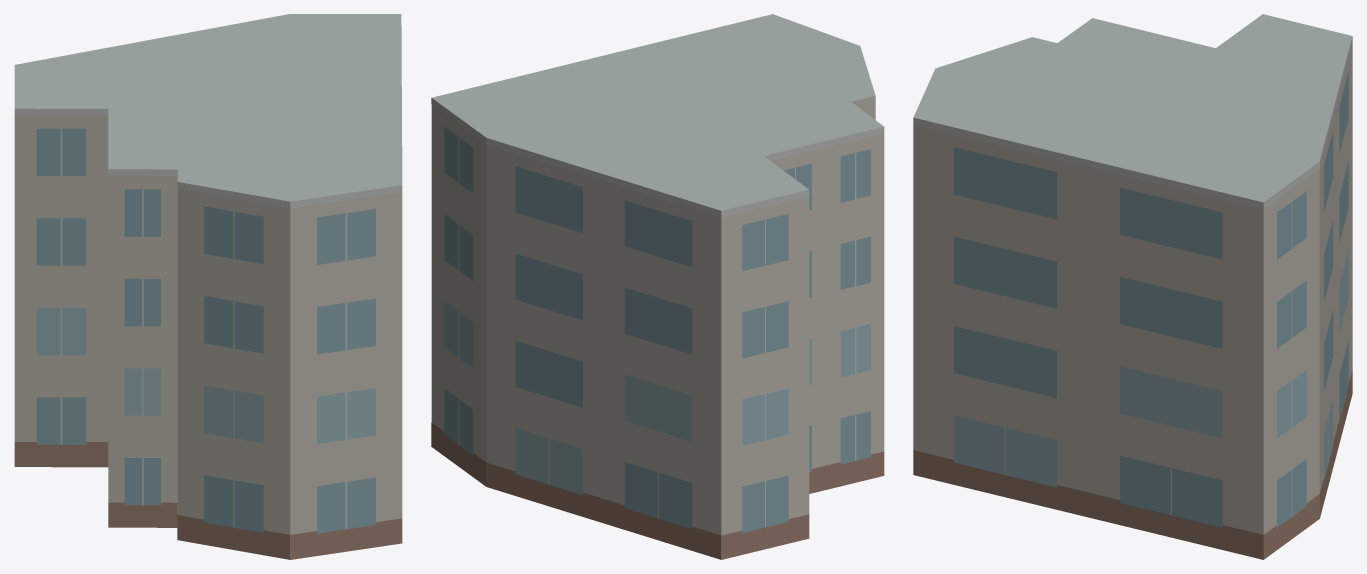
The model's file is survey-upis-32608439.glb.
3 renders of one model, left to right at view 1: azimuth 30°, elevation 25°; view 2: azimuth 150°, elevation 25°; view 3: azimuth 270°, elevation 25°, orthographic. The views are drawn at different scales.
Visible parts, largest first — view 1: survey-upis-32608439.tmp; view 2: survey-upis-32608439.tmp; view 3: survey-upis-32608439.tmp.
Boxes of the visible parts, x1,y1,x2,y2 form: survey-upis-32608439.tmp: (14,14,402,559); survey-upis-32608439.tmp: (431,14,884,559); survey-upis-32608439.tmp: (913,14,1352,559).
Size of the model in its own units: 14.6 by 12.9 by 14.38.
